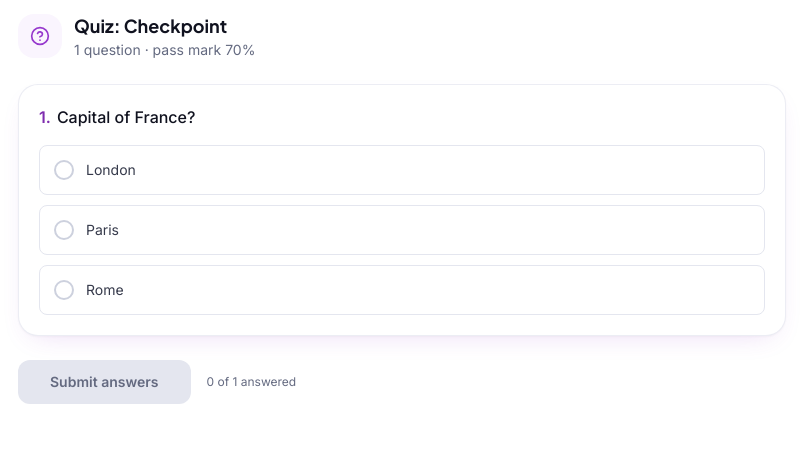
when the attempts are gone › offers a retry, with the count, while tries remain
The width and height of the screenshot is (803, 463).
Click the button "Paris" at (102, 230), box [39,205,765,255]
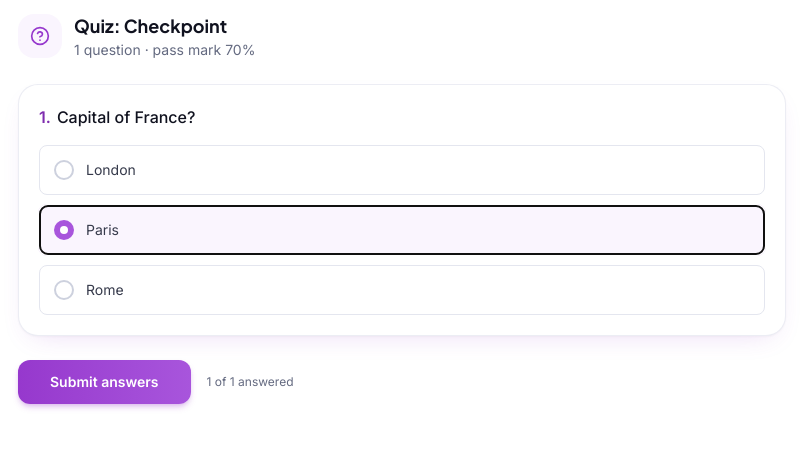
Click the button "Submit answers" at (104, 382), box [18,360,190,404]
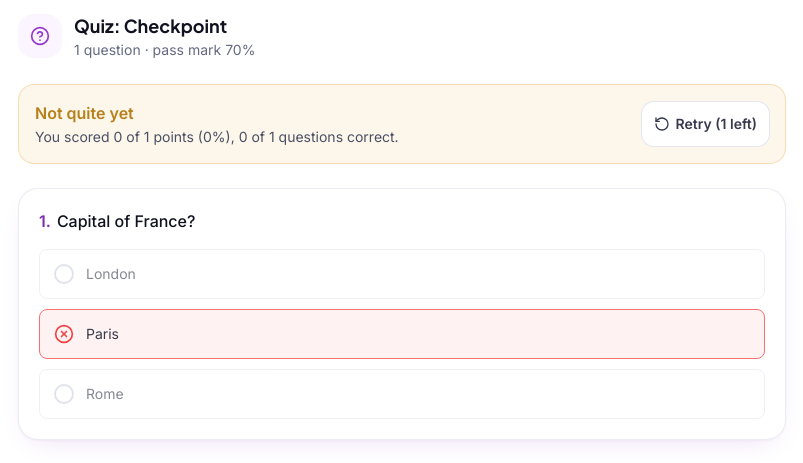
Now the button "Retry (1 left)" is shown, box [642,102,769,146]
